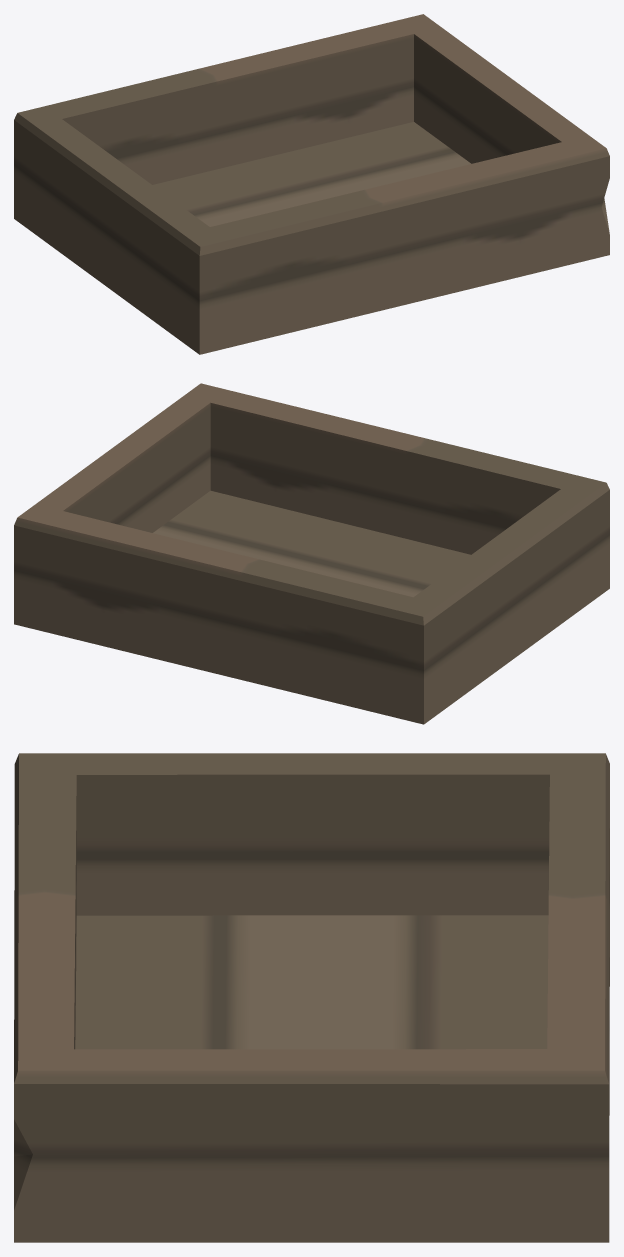
Rendered from SM_Prop_Crate_Wood_01.glb.
The picture shows the model from 3 angles, top to bottom: view 1: azimuth 30°, elevation 25°; view 2: azimuth 150°, elevation 25°; view 3: azimuth 270°, elevation 25°; orthographic projection. The views are drawn at different scales.
Parts seen in each view (by area): view 1: SM_Prop_Crate_Wood_01; view 2: SM_Prop_Crate_Wood_01; view 3: SM_Prop_Crate_Wood_01.
Part boxes in pixels (box(x1,y1,x2,y2)): SM_Prop_Crate_Wood_01: box(14, 14, 609, 354); SM_Prop_Crate_Wood_01: box(14, 383, 609, 724); SM_Prop_Crate_Wood_01: box(14, 753, 609, 1242).
Size of the model in its own units: 0.9222 by 0.2286 by 0.7248.
1 material, 1 textured.
